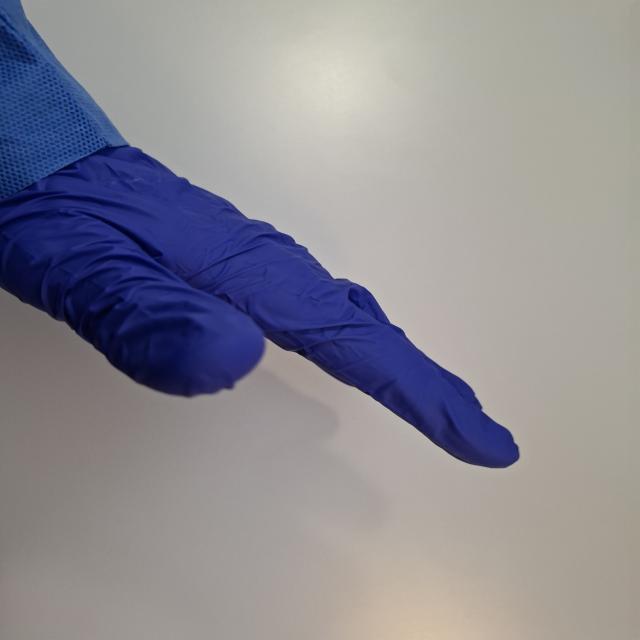glove_on: (0, 138, 522, 471)
